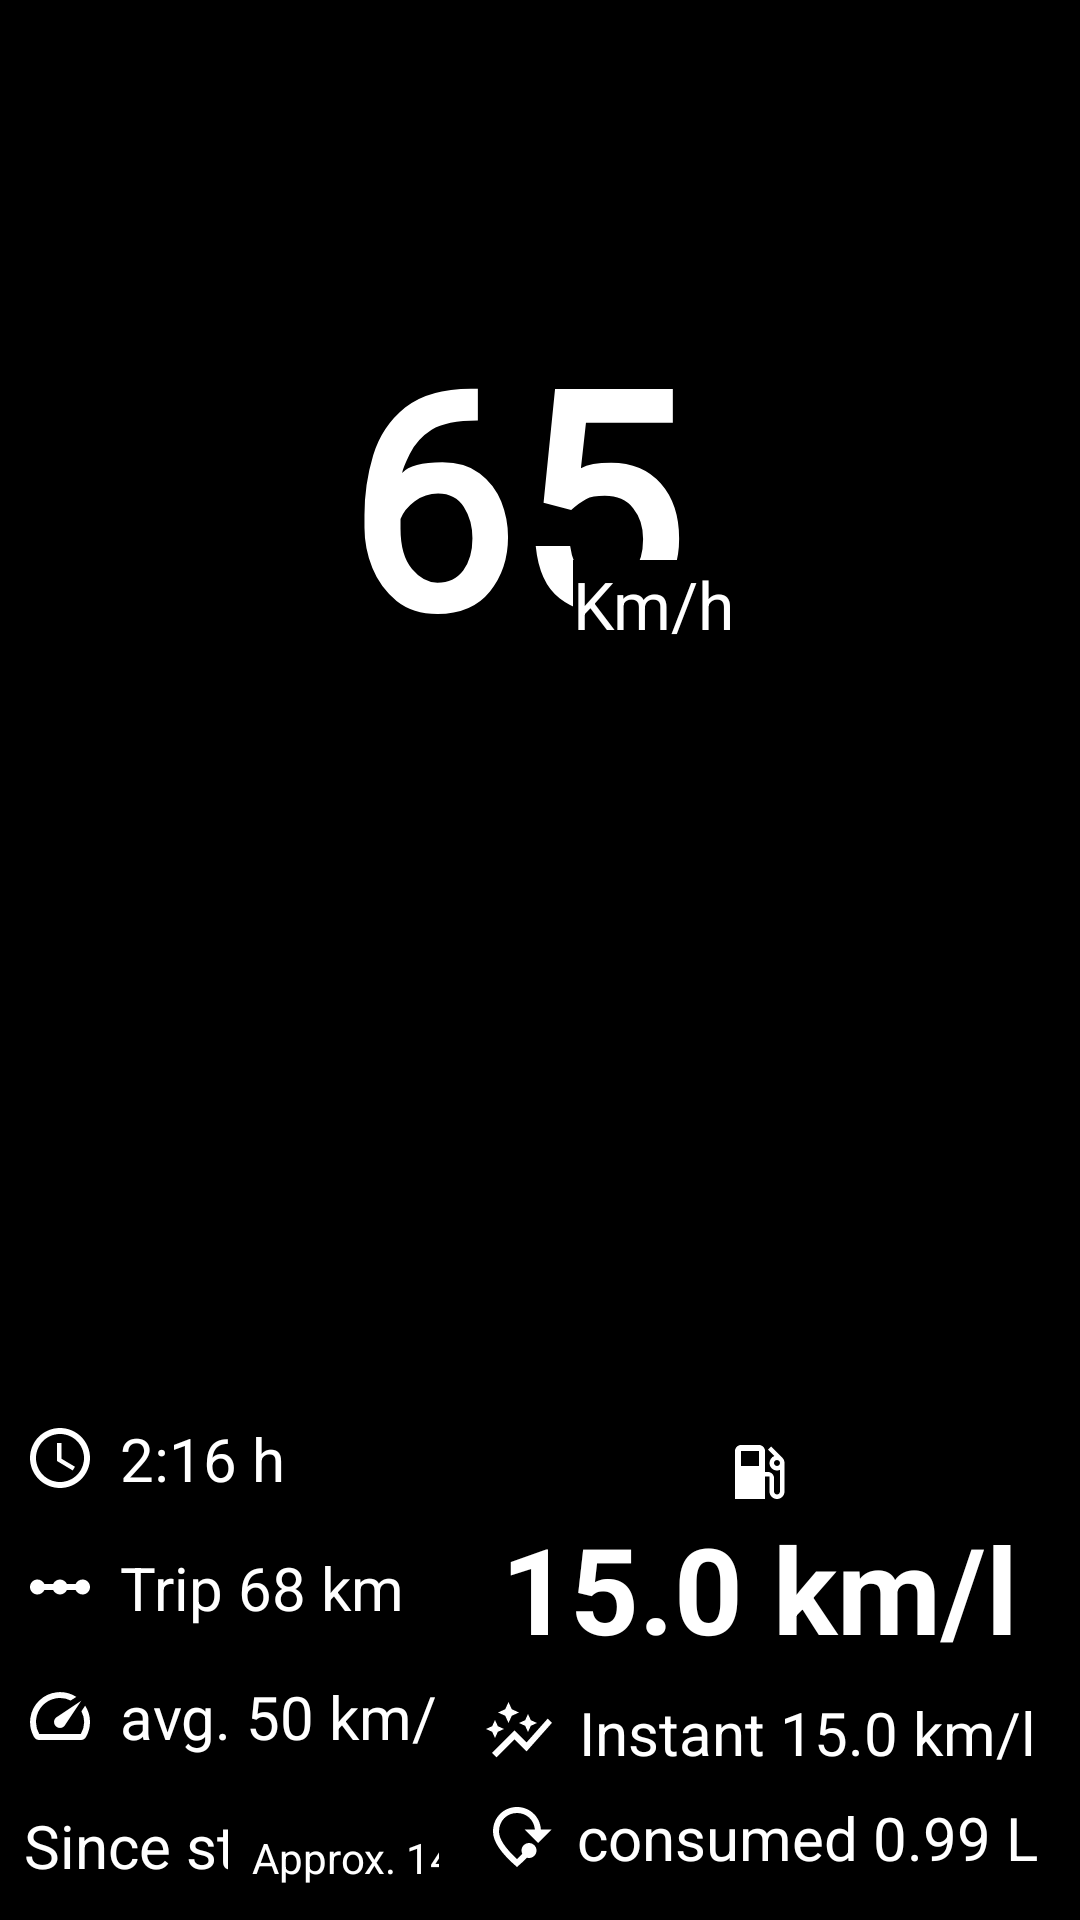

Locate icon controls on the screen. Image size 1080w x 1920h, boxes as (x1, y1, x2, y2).
local gas station: (735, 1445, 785, 1499)
